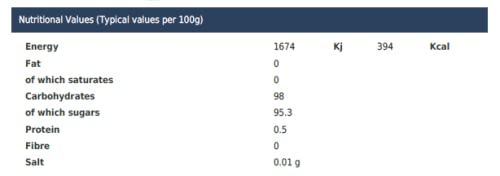1009): (180, 16, 203, 24)
953: (274, 109, 292, 116)
Fibre: (26, 142, 49, 149)
Protein: (26, 126, 59, 133)
of: (25, 109, 35, 116)
os: (274, 126, 286, 133)
per: (163, 17, 176, 24)
saturates: (68, 77, 113, 83)
sugars: (68, 110, 100, 118)
which: (38, 76, 65, 83), (38, 109, 65, 116)
